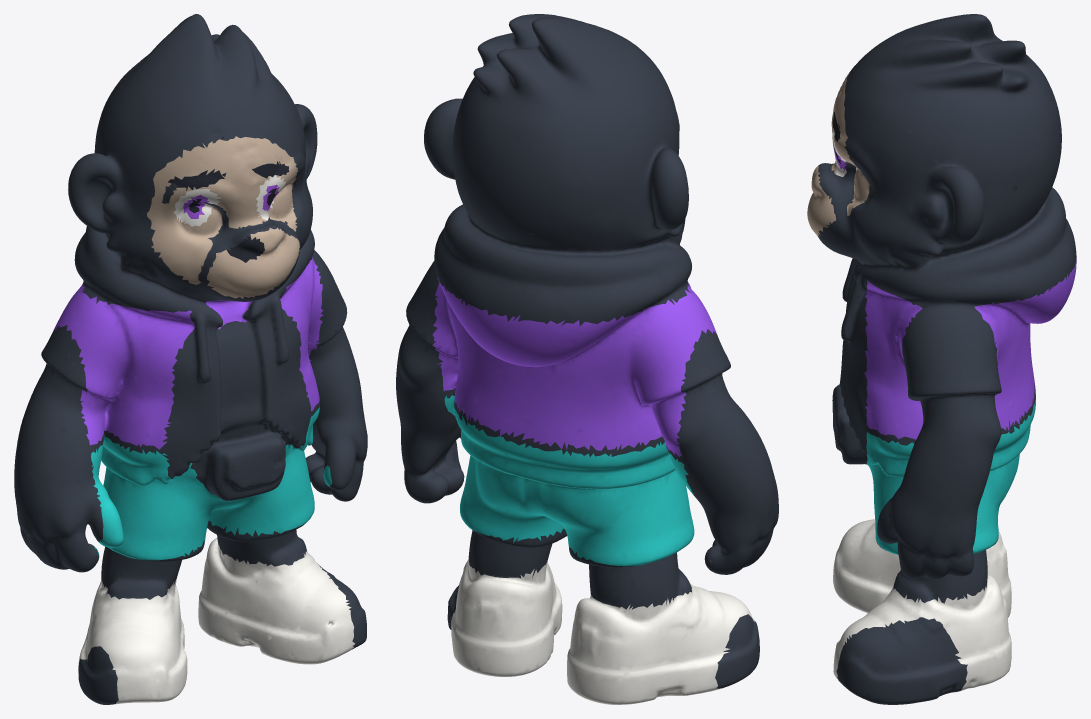
Rendered from gorilla-companion-ar-v2.glb.
3 renders of one model, left to right at view 1: azimuth 30°, elevation 25°; view 2: azimuth 150°, elevation 25°; view 3: azimuth 270°, elevation 25°, orthographic. The views are drawn at different scales.
Parts seen in each view (by area): view 1: Gorilla_NativeFace_Body.001; view 2: Gorilla_NativeFace_Body.001; view 3: Gorilla_NativeFace_Body.001.
Boxes of the visible parts, bbox=[...] form: Gorilla_NativeFace_Body.001: bbox=[14, 14, 367, 704]; Gorilla_NativeFace_Body.001: bbox=[396, 14, 778, 704]; Gorilla_NativeFace_Body.001: bbox=[807, 14, 1076, 704].
Bounding box in the file's own units: 1.15 × 1.99 × 0.7663.
